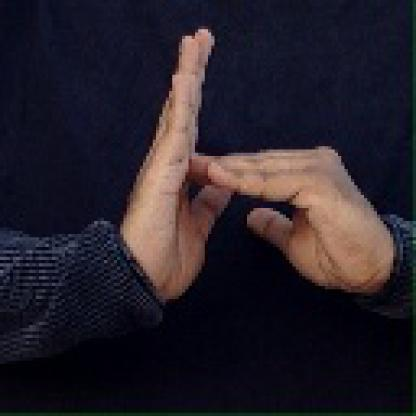Z: (147, 19, 336, 326)
